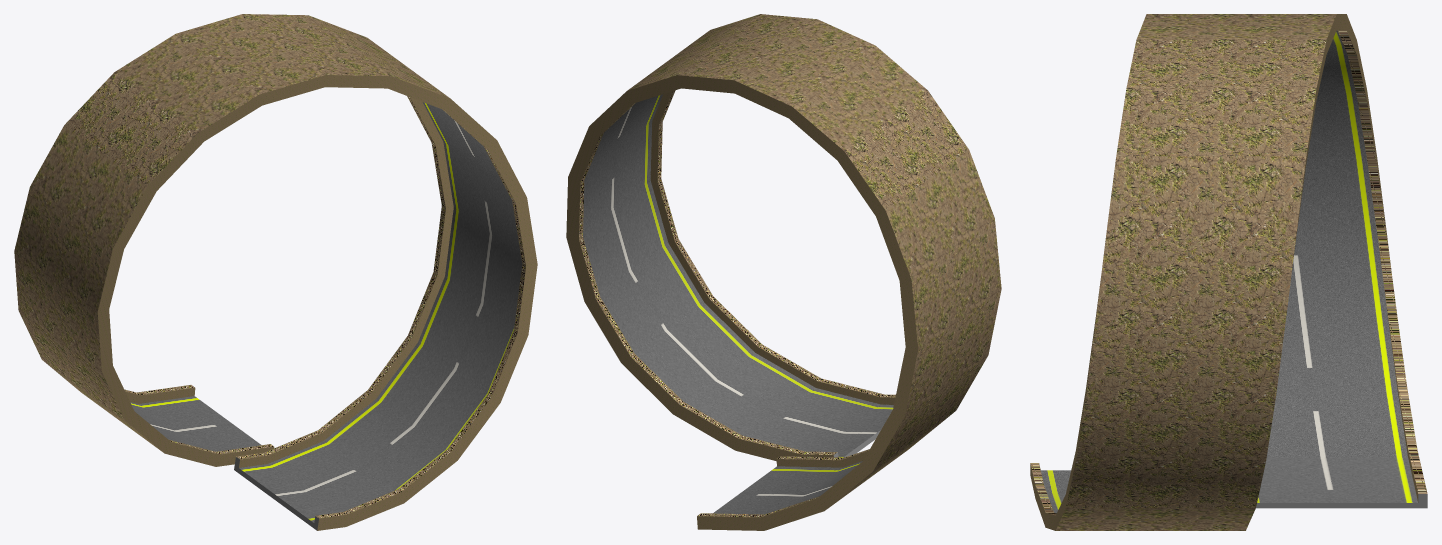
File: Hudels_03.FBX
3 views of the same model, side by side, from view 1: azimuth 30°, elevation 25°; view 2: azimuth 150°, elevation 25°; view 3: azimuth 270°, elevation 25° (orthographic). The views are drawn at different scales.
Visible parts, largest first — view 1: Helix001; view 2: Helix001; view 3: Helix001.
Boxes of the visible parts, left/top/right/bottom form: Helix001: left=14, top=14, right=537, bottom=530; Helix001: left=566, top=14, right=1001, bottom=530; Helix001: left=1030, top=14, right=1427, bottom=530.
Size of the model in its own units: 113 by 113 by 85.96.
3 materials, 2 textured.
